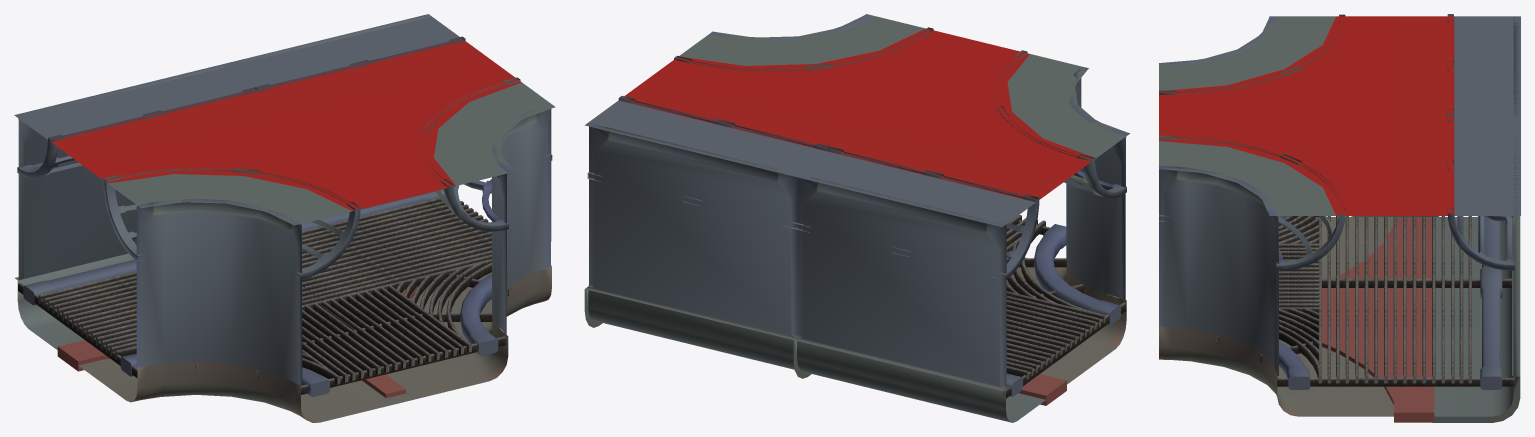
File: maintenance_tunnel_T_plain.dae
3 views of the same model, side by side, from view 1: azimuth 30°, elevation 25°; view 2: azimuth 150°, elevation 25°; view 3: azimuth 270°, elevation 25° (orthographic). The views are drawn at different scales.
Visible parts, largest first — view 1: tunnel_T__2_, grate__3_; view 2: tunnel_T__2_, grate__3_; view 3: tunnel_T__2_, grate__3_.
Part boxes in pixels (x1,y1,x2,y2): tunnel_T__2_: (14, 14, 555, 422); grate__3_: (18, 196, 510, 394); tunnel_T__2_: (584, 14, 1129, 422); grate__3_: (588, 214, 1126, 398); tunnel_T__2_: (1159, 14, 1520, 422); grate__3_: (1216, 216, 1513, 386).
Size of what is drawn, in the model's own units: 4 by 1.95 by 3.06.
